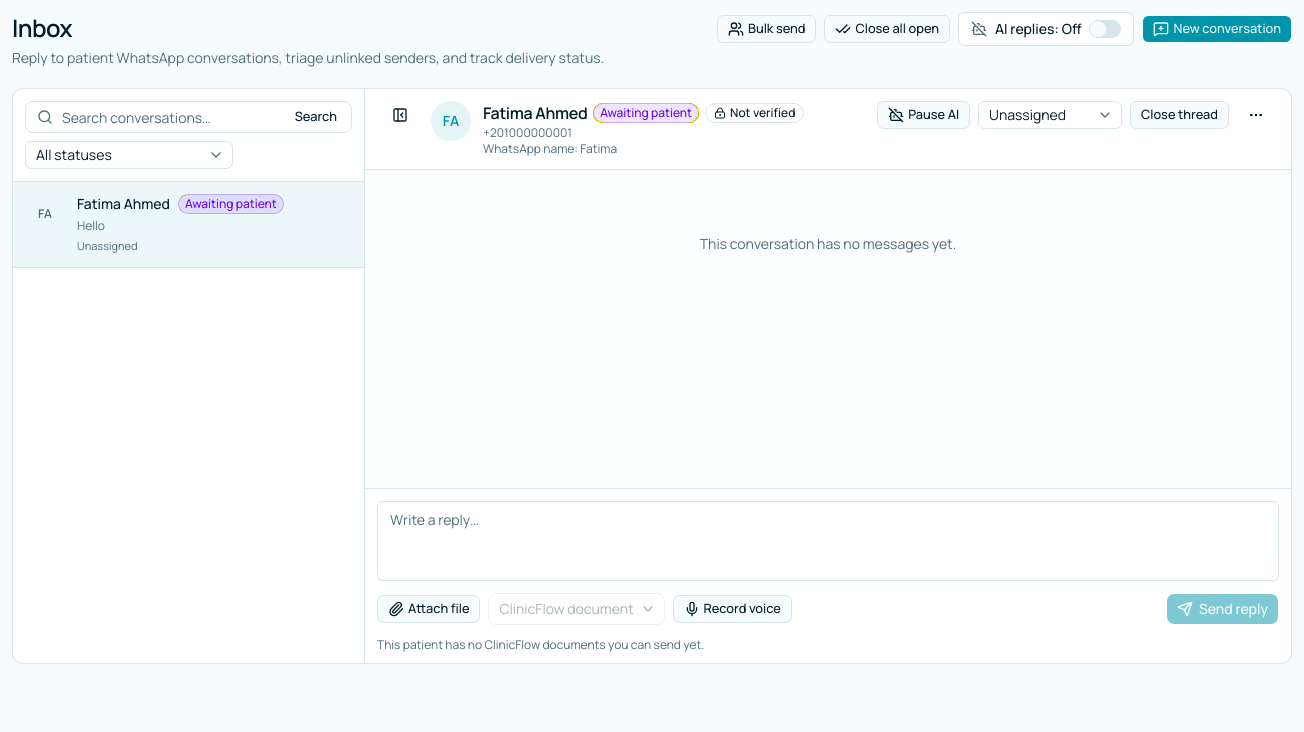
Test case: the laptop layout › hides the conversation list on request and gives the width to the thread
Expected: the element with test id "conversation-list-scroll" is shown, [13,182,364,268]
Click the button with test id "conversation-list-toggle".
click(400, 115)  # box [381,101,419,129]
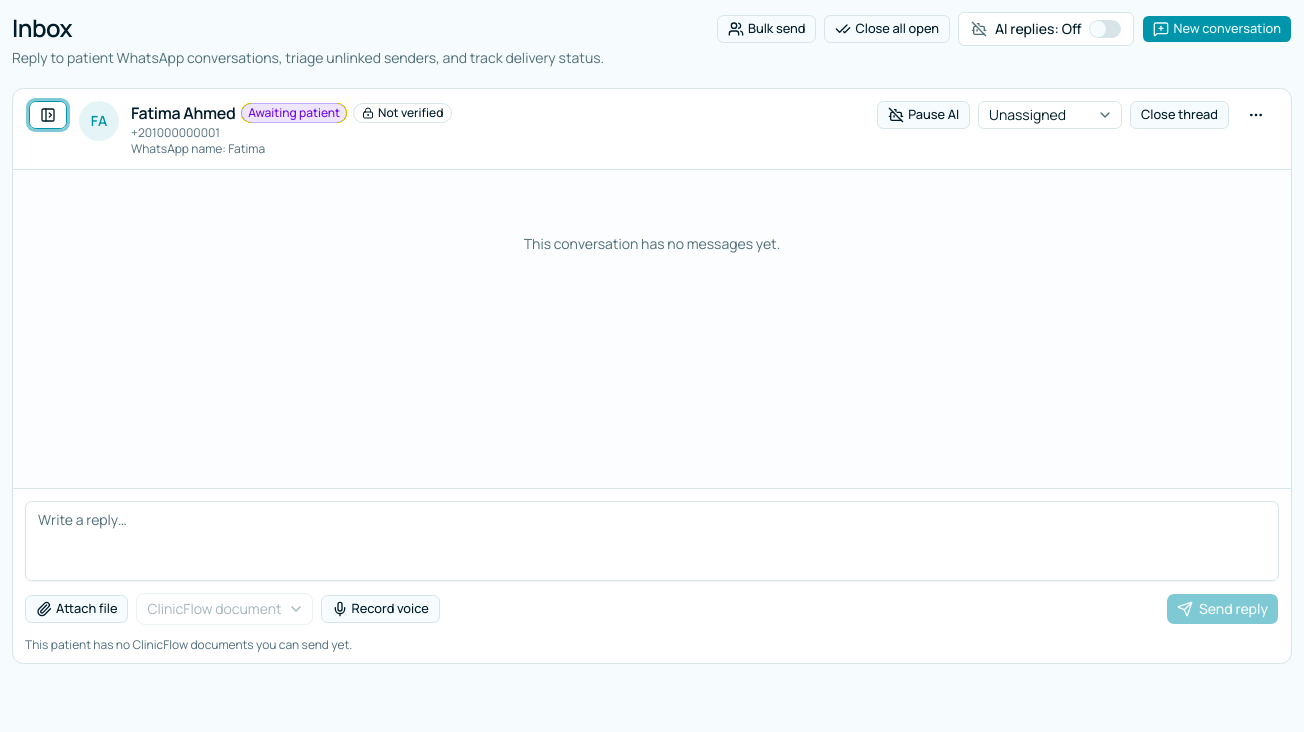
Expected: the element with test id "conversation-list-scroll" is gone
